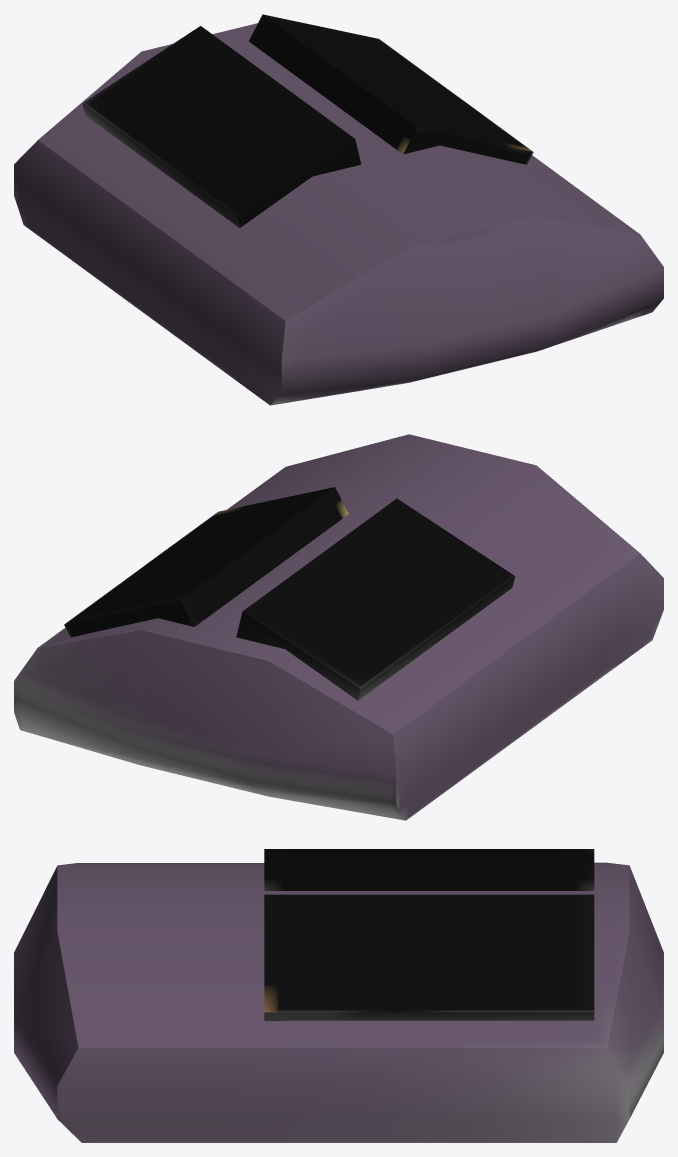
Rendered from mouse exp resend.fbx.
The picture shows the model from 3 angles, top to bottom: view 1: azimuth 30°, elevation 25°; view 2: azimuth 150°, elevation 25°; view 3: azimuth 270°, elevation 25°; orthographic projection. The views are drawn at different scales.
Visible parts, largest first — view 1: Box034; view 2: Box034; view 3: Box034.
Boxes of the visible parts, left/top/right/bottom form: Box034: left=14, top=14, right=663, bottom=405; Box034: left=14, top=434, right=663, bottom=820; Box034: left=14, top=849, right=663, bottom=1142.
Bounding box in the file's own units: 1.87 × 0.76 × 2.57.
